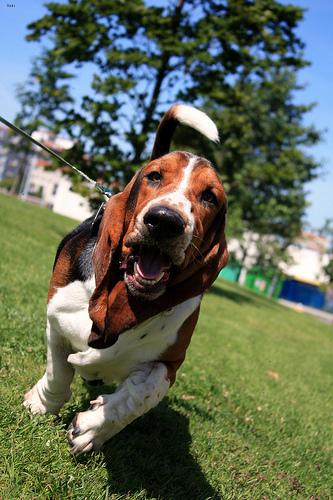dog-basset_hound: (87, 149, 227, 347)
